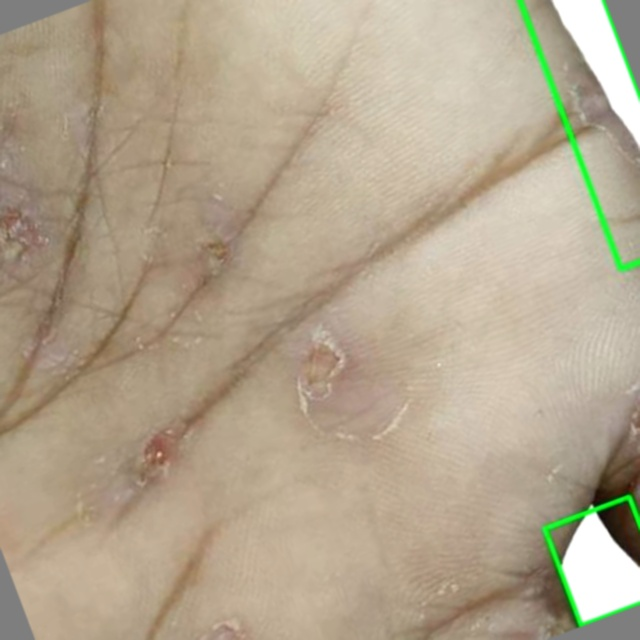Scabies: (544, 496, 639, 625)
